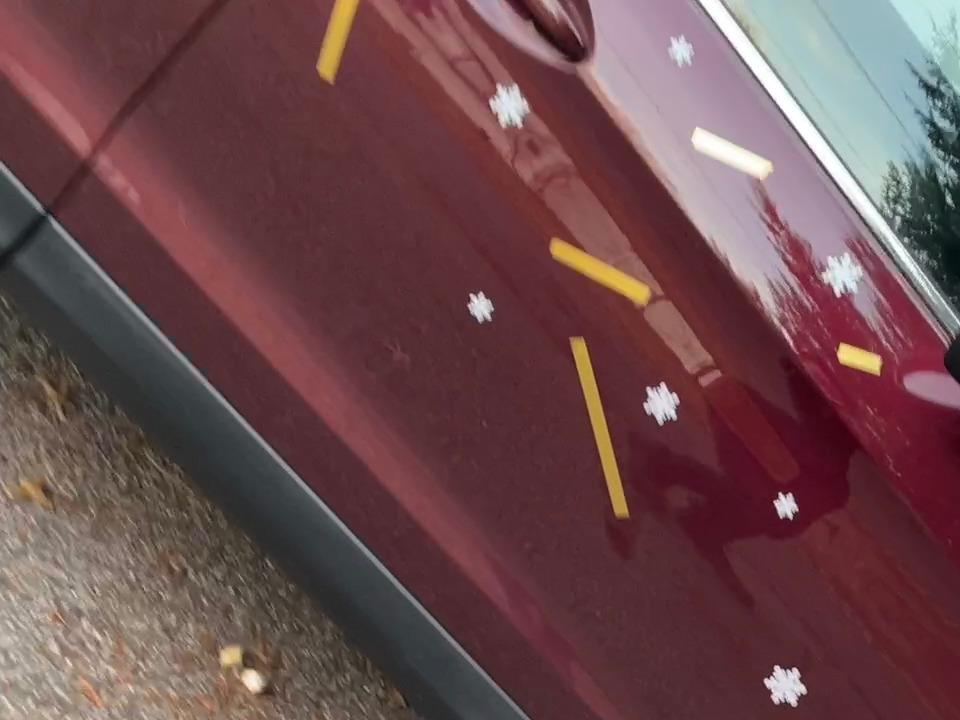dent: (482, 74, 541, 136), (759, 658, 814, 714), (636, 378, 690, 429), (817, 251, 868, 301), (662, 29, 703, 72), (462, 288, 502, 328), (771, 487, 802, 524)
scratch: (564, 332, 637, 521), (547, 231, 659, 309), (687, 120, 781, 188), (832, 337, 887, 377)
